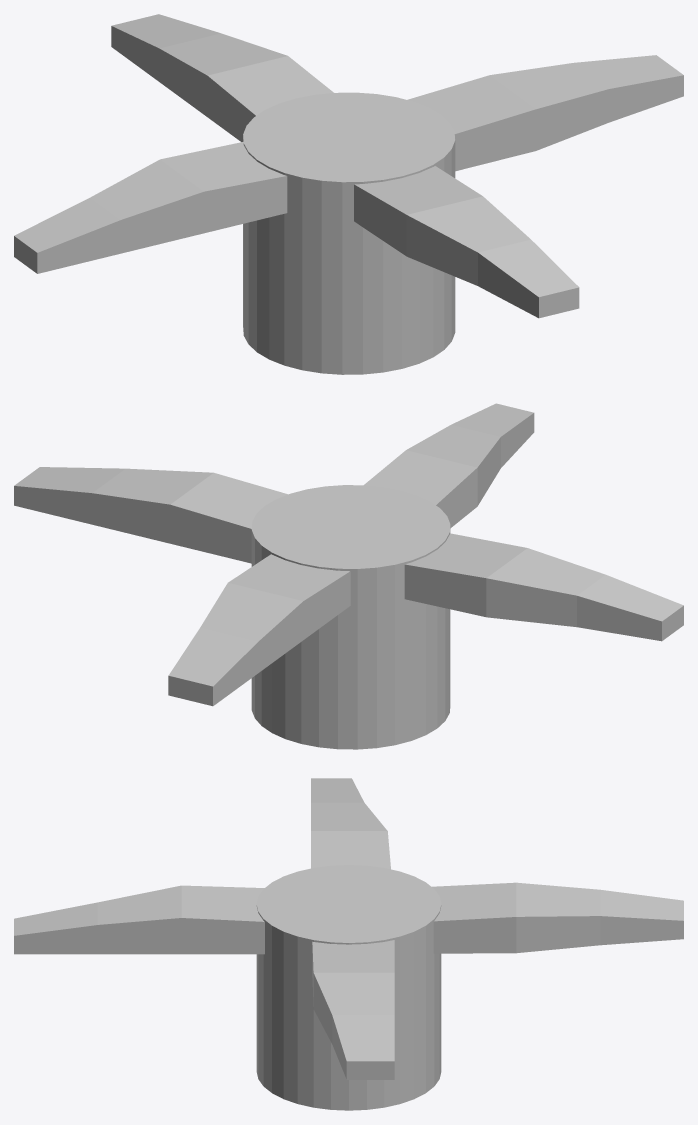
Rendered from ThrowEnemyPropeller.obj.
3 views of the same model, one above another, from view 1: azimuth 30°, elevation 25°; view 2: azimuth 150°, elevation 25°; view 3: azimuth 270°, elevation 25° (orthographic). The views are drawn at different scales.
Parts seen in each view (by area): view 1: 立方体.002; view 2: 立方体.002; view 3: 立方体.002.
Boxes of the visible parts, x1,y1,x2,y2 form: 立方体.002: [14, 14, 683, 374]; 立方体.002: [14, 403, 683, 749]; 立方体.002: [14, 778, 683, 1110].
Bounding box in the file's own units: 1.45 × 0.405 × 1.45.
Materials: 1 (1 with a texture image).
